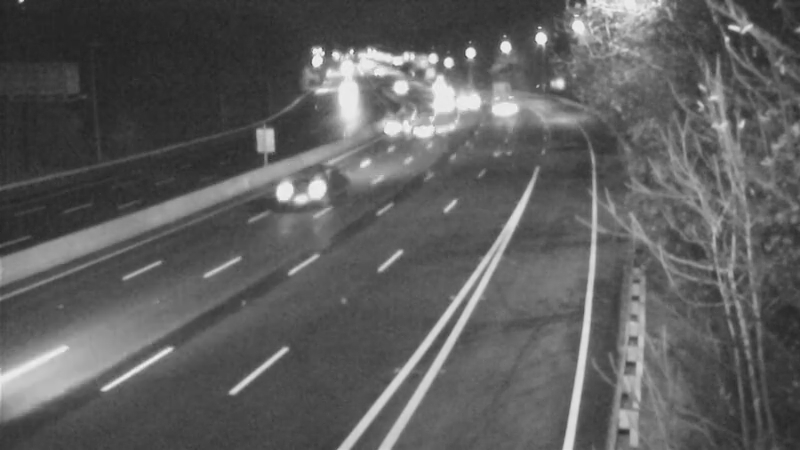vehicle: (264, 154, 344, 234), (407, 58, 457, 108), (374, 63, 424, 113), (419, 79, 469, 129), (441, 78, 491, 128), (477, 77, 527, 127), (405, 102, 455, 152), (369, 100, 419, 150)
